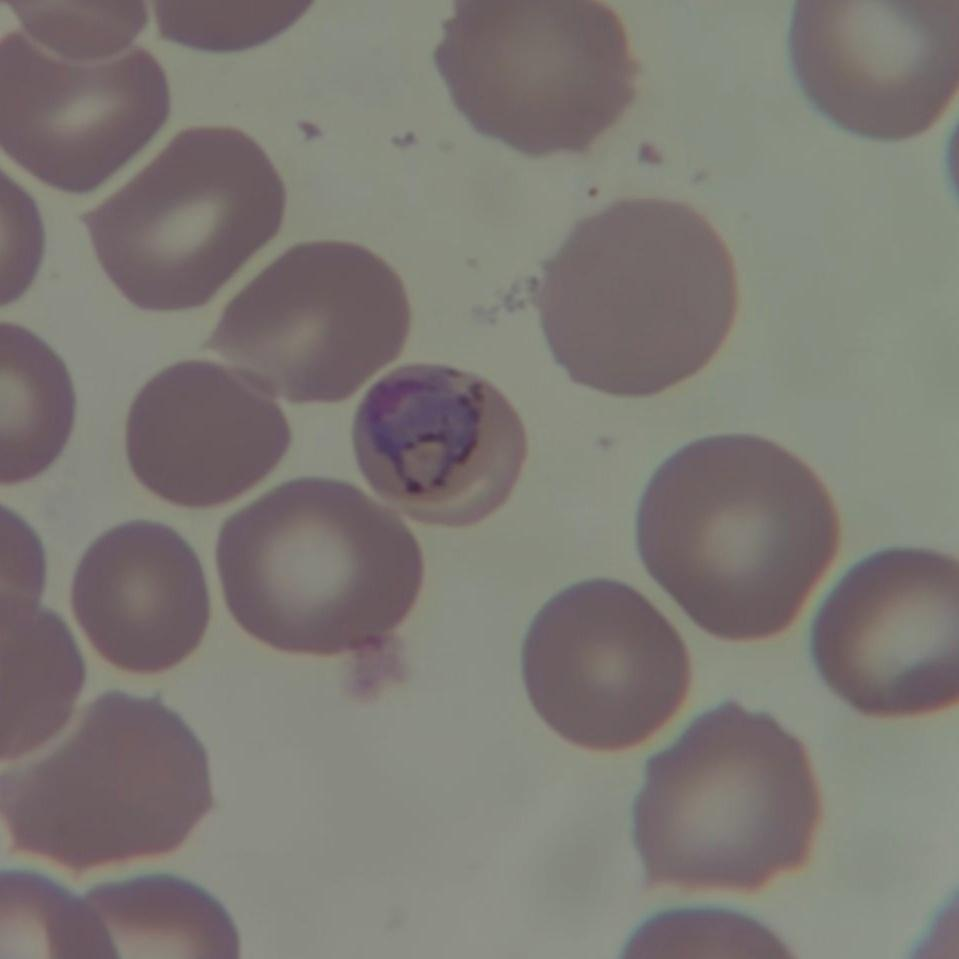Infected: (350, 361, 535, 526)
Uninfected: (640, 436, 835, 636), (538, 203, 735, 400), (625, 698, 822, 893), (5, 691, 210, 870), (90, 126, 288, 309), (220, 481, 420, 661), (207, 243, 412, 398), (0, 21, 170, 199), (440, 0, 630, 154), (523, 583, 693, 750), (811, 551, 959, 720), (130, 358, 290, 508), (790, 0, 957, 141), (75, 521, 207, 670)
